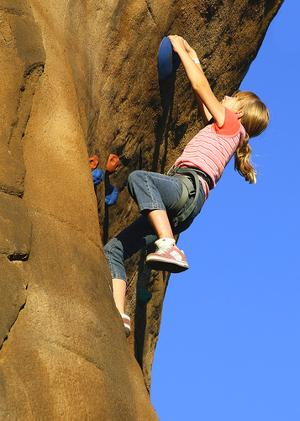person: (103, 34, 270, 340)
